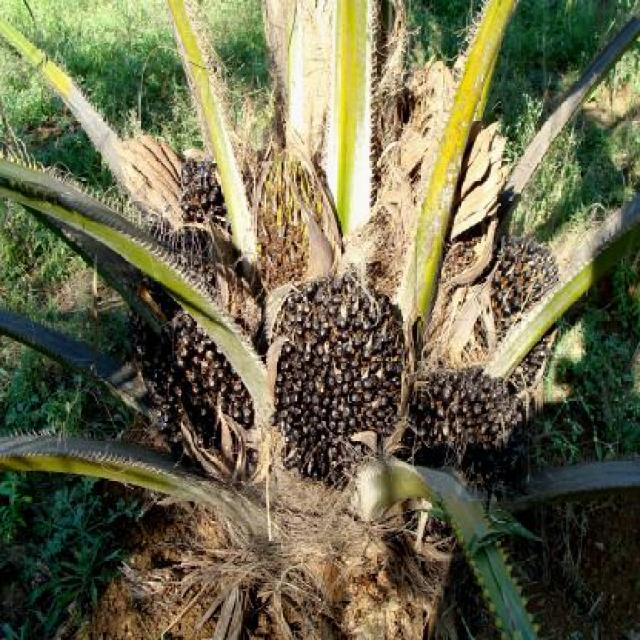palm-oil: (273, 273, 410, 494), (149, 302, 266, 436), (387, 353, 538, 452), (174, 145, 258, 310), (487, 242, 586, 344)
